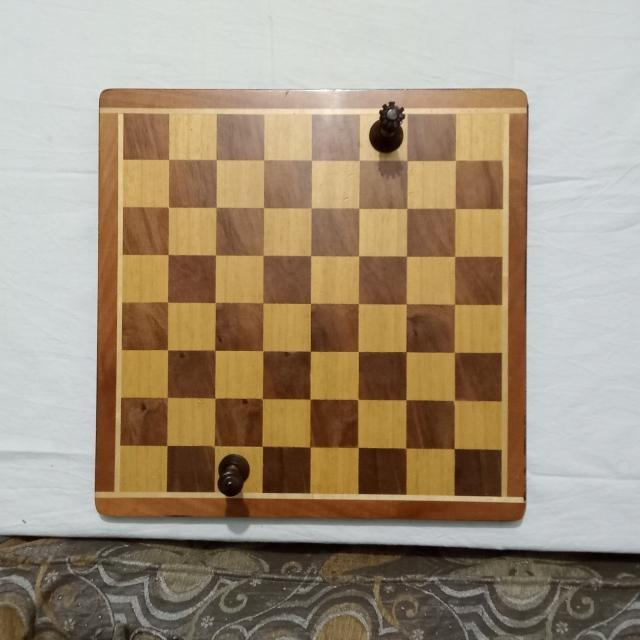black-king: (216, 454, 251, 498)
black-queen: (367, 103, 407, 155)
